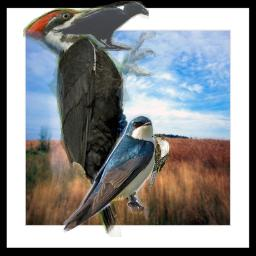Crow: (51, 1, 149, 51)
Cuckoo: (148, 134, 170, 189)
Swallow: (59, 111, 161, 234)
Woodpecker: (23, 3, 156, 237)
